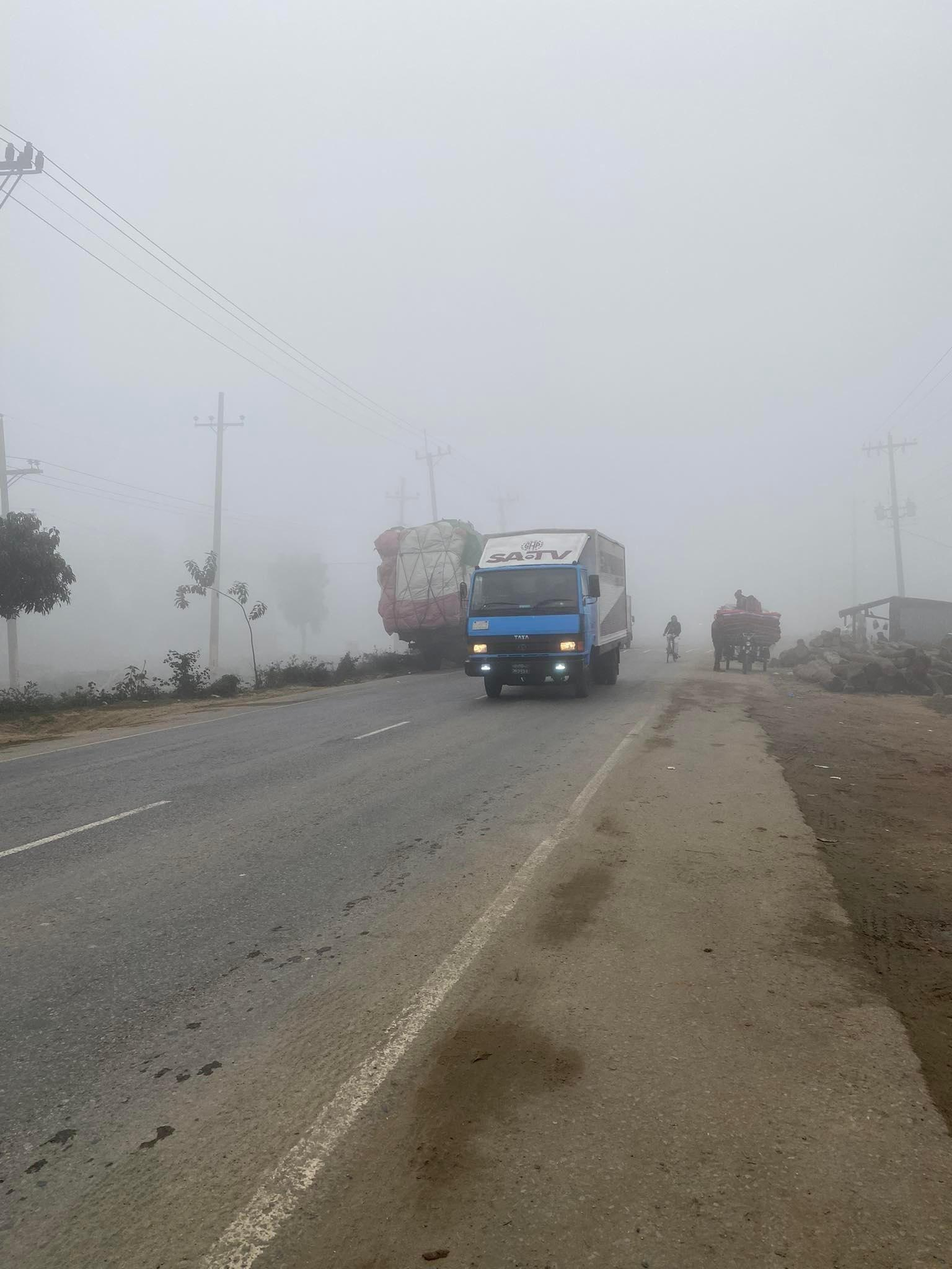Truck: (459, 514, 647, 706), (368, 511, 481, 679)
